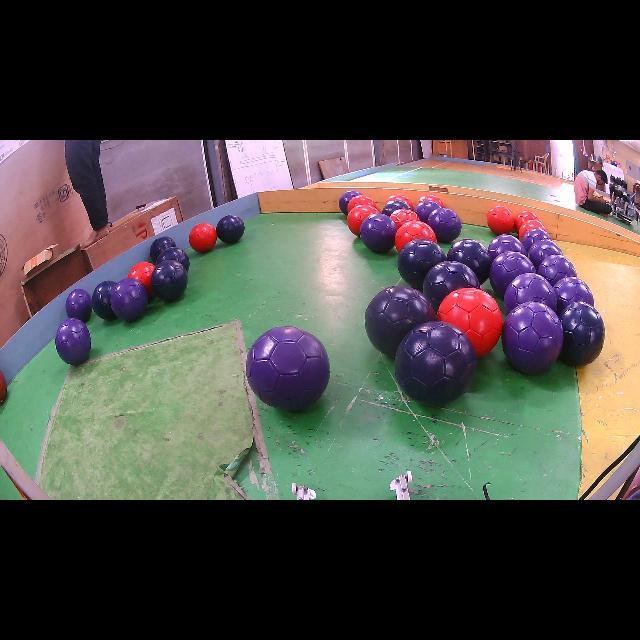B: (395, 321, 476, 405), (365, 286, 435, 358), (559, 301, 605, 366), (422, 261, 480, 311), (398, 239, 446, 291), (446, 239, 491, 284), (150, 260, 188, 301), (92, 280, 116, 320), (216, 215, 245, 244), (156, 248, 190, 272), (150, 236, 176, 262), (382, 200, 411, 216)
P: (246, 326, 330, 411), (501, 301, 564, 374), (504, 272, 558, 314), (489, 251, 536, 298), (55, 318, 91, 365), (110, 278, 148, 321), (554, 276, 594, 313), (360, 214, 398, 252), (538, 255, 578, 286), (428, 208, 461, 242), (488, 234, 528, 261), (528, 239, 562, 270), (65, 289, 92, 322), (521, 228, 551, 252), (339, 190, 361, 215), (415, 200, 440, 222)
R: (436, 288, 502, 356), (395, 220, 437, 252), (348, 205, 379, 238), (128, 261, 155, 297), (486, 205, 514, 235), (189, 224, 218, 252), (519, 219, 546, 241), (390, 209, 420, 228), (348, 195, 378, 212), (515, 210, 538, 231), (386, 194, 414, 210), (418, 194, 444, 208)
